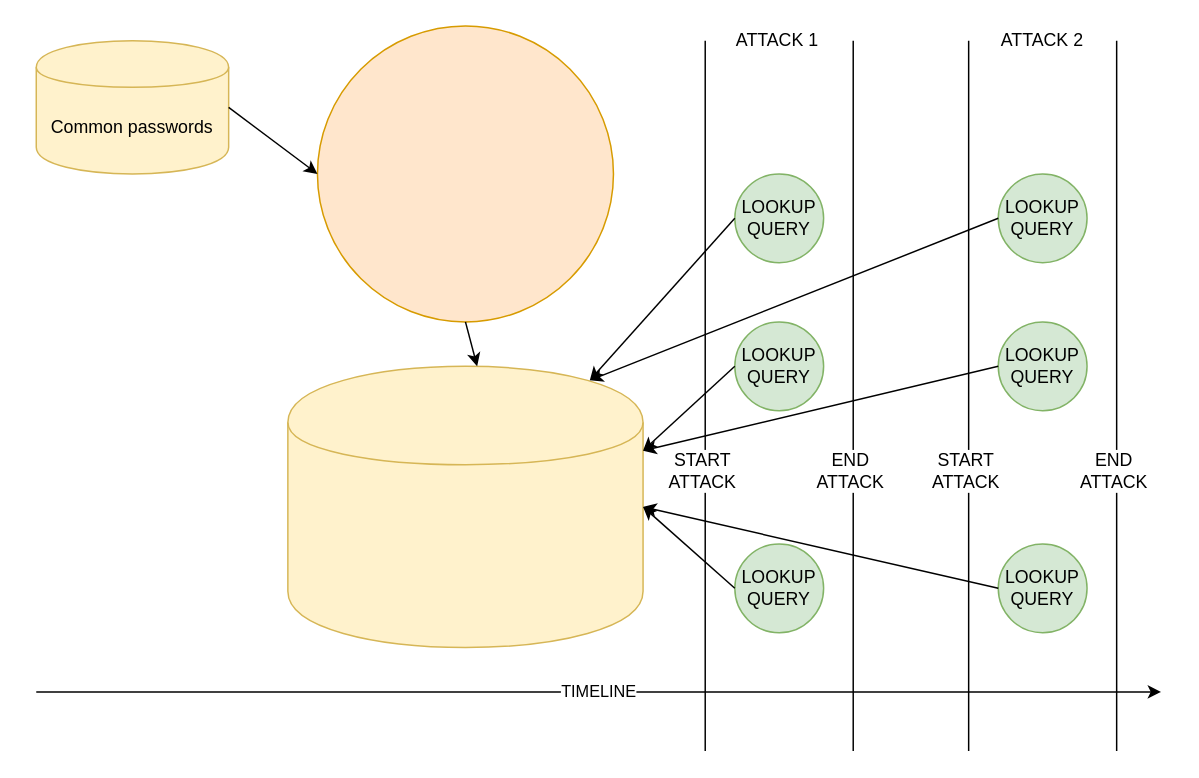
Some shapes in this 1199 by 778 pixel diagram are drawn without their labels. Here are the shapes that lost their labels. From the top down, the centre of each, then its label:
(464,173): Pre-calculate
(464,506): Hashes to crack
